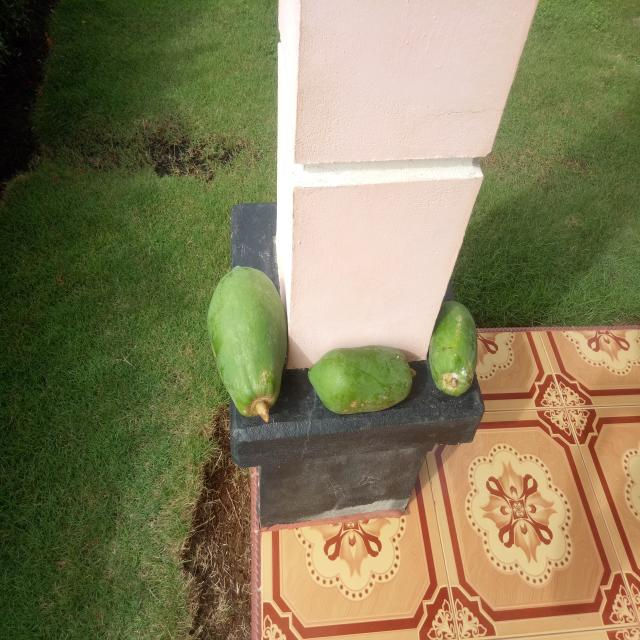Pepaya unrippen: (205, 251, 295, 426), (301, 341, 409, 424), (426, 291, 491, 392)
